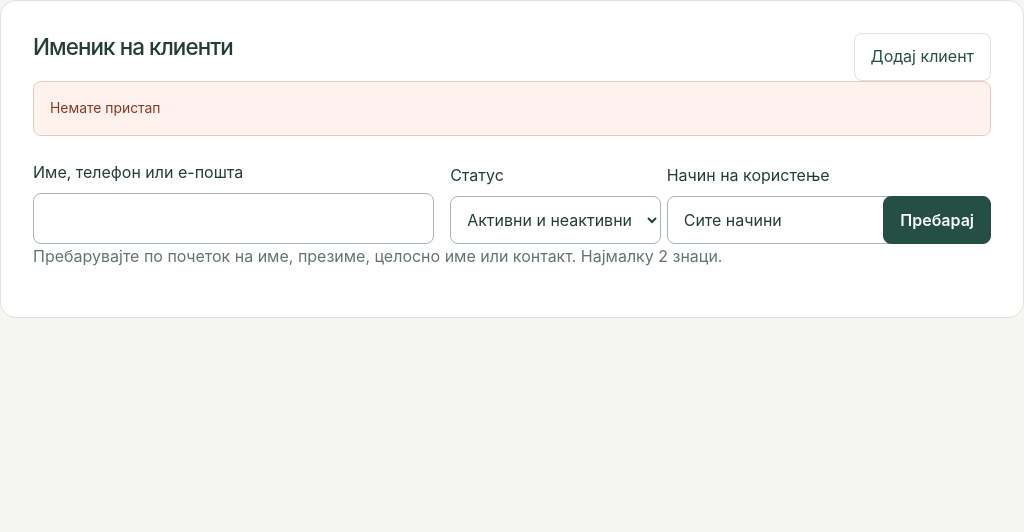
Scenario: handles directory and profile API failures without exposing another profile
Check: the message reads "Немате пристап", box 50,100 -> 160,116
Click the button "Пребарај". click: x=937, y=220
box: 883,196 -> 991,244
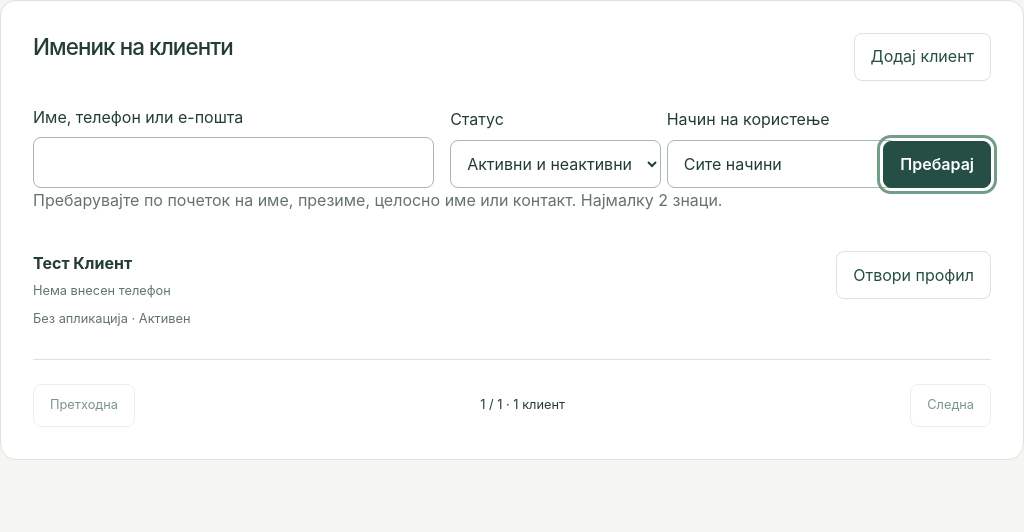
Click the button with aria-label "Отвори профил Тест Клиент". click: x=914, y=275
box: 836,251 -> 991,299
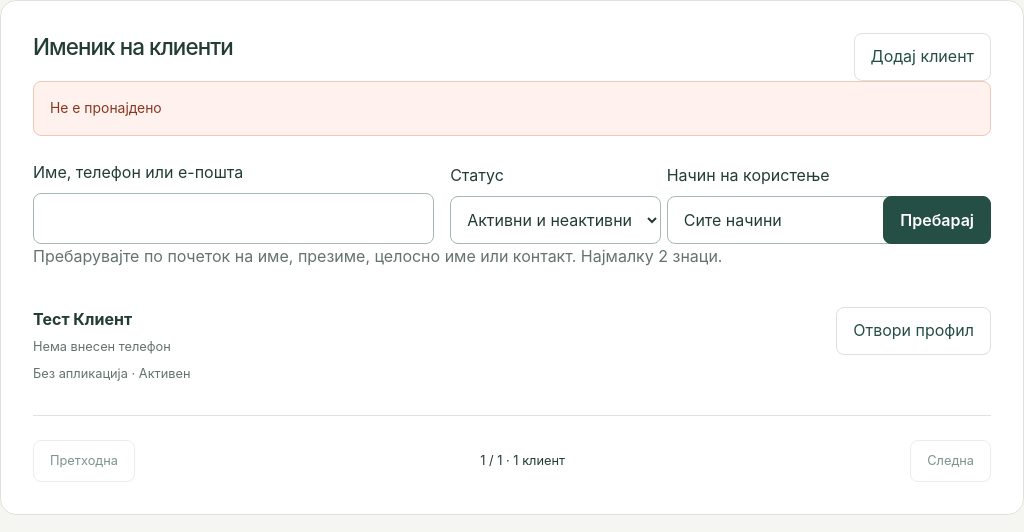
Check: the message reads "Не е пронајдено", box 50,100 -> 162,116
